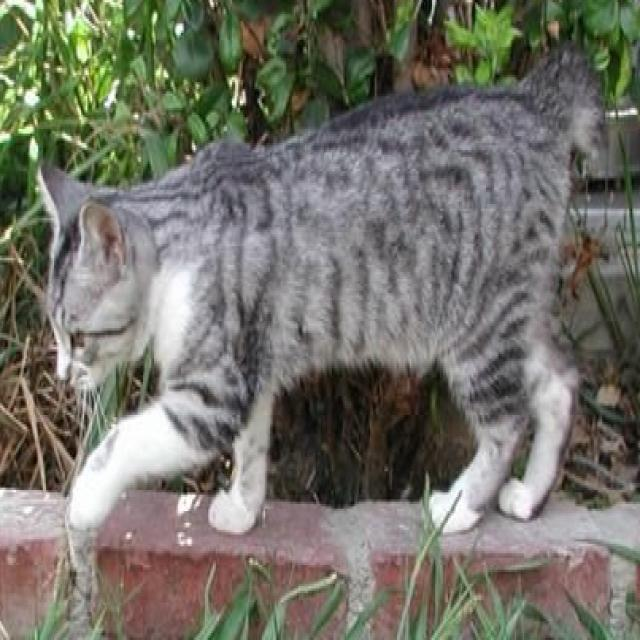American Bobtail: (36, 40, 602, 541)
